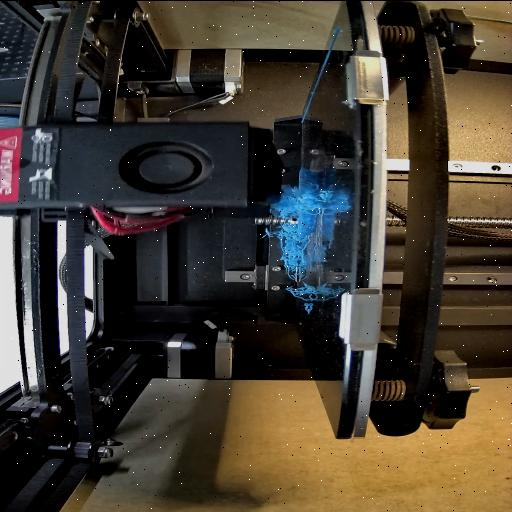spaghetti: (270, 219, 304, 274), (280, 188, 334, 218), (288, 282, 324, 300)
